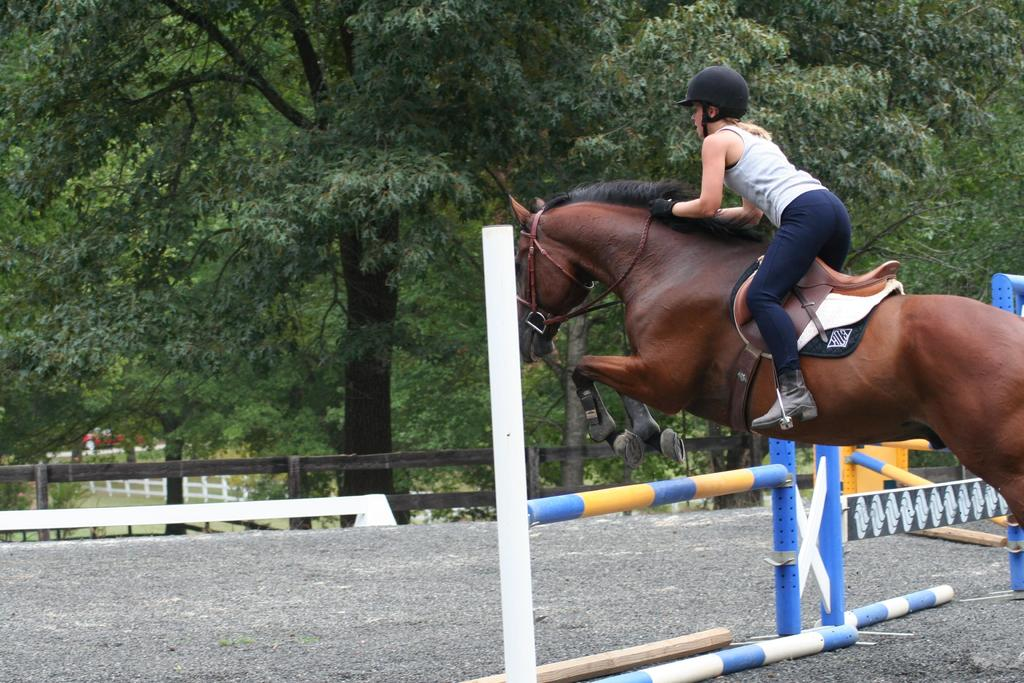Person: (649, 65, 851, 431)
